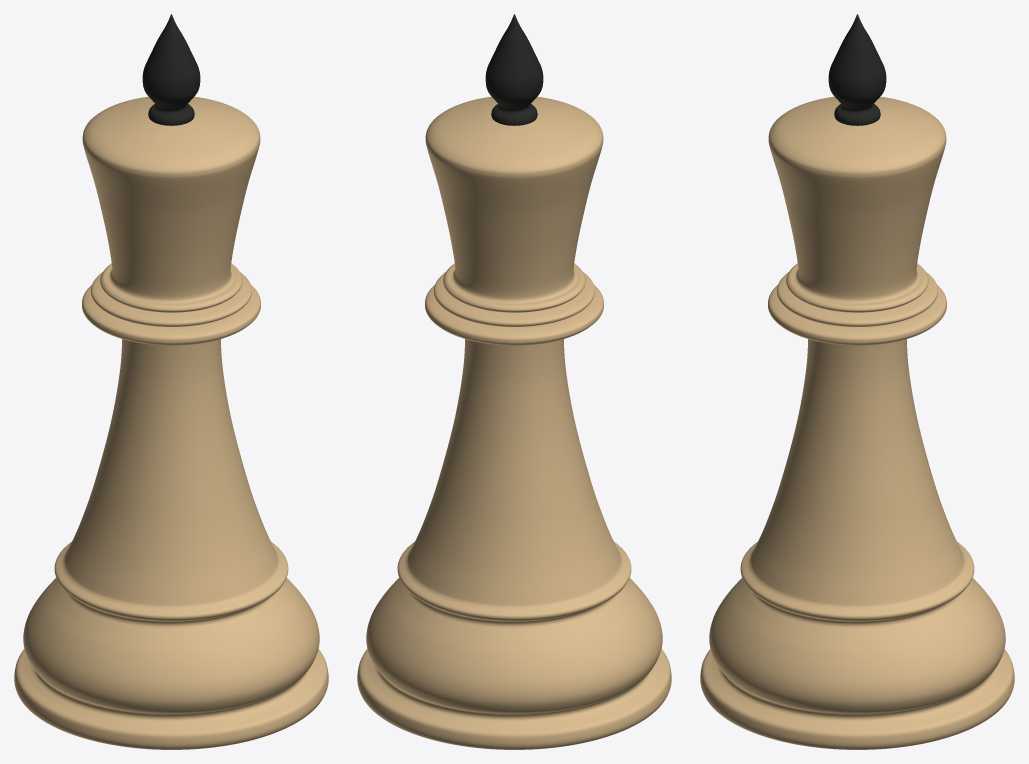
The model's file is king.glb.
3 renders of one model, left to right at view 1: azimuth 30°, elevation 25°; view 2: azimuth 150°, elevation 25°; view 3: azimuth 270°, elevation 25°, orthographic.
Parts seen in each view (by area): view 1: King.002; view 2: King.002; view 3: King.002.
Part boxes in pixels (x1,y1,x2,y2): King.002: (14, 14, 328, 749); King.002: (357, 14, 671, 749); King.002: (700, 14, 1014, 749).
Bounding box in the file's own units: 0.0413 × 0.0984 × 0.0413.
